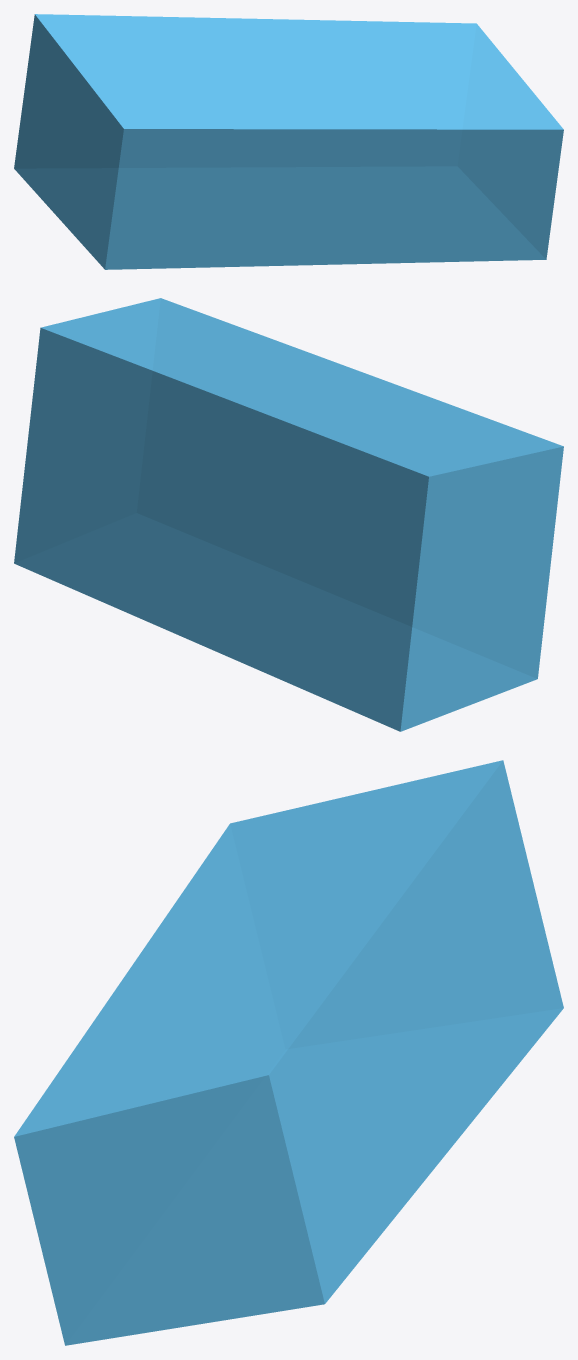
The model's file is Event_421115418_HErechit_5.fbx.
The picture shows the model from 3 angles, top to bottom: view 1: azimuth 30°, elevation 25°; view 2: azimuth 150°, elevation 25°; view 3: azimuth 270°, elevation 25°; orthographic projection. The views are drawn at different scales.
Parts seen in each view (by area): view 1: Model; view 2: Model; view 3: Model.
Part boxes in pixels (left/top/right/bottom): Model: left=14, top=14, right=563, bottom=269; Model: left=14, top=298, right=563, bottom=731; Model: left=14, top=760, right=563, bottom=1345.
Size of the model in its own units: 0.841 by 0.4923 by 0.7488.
